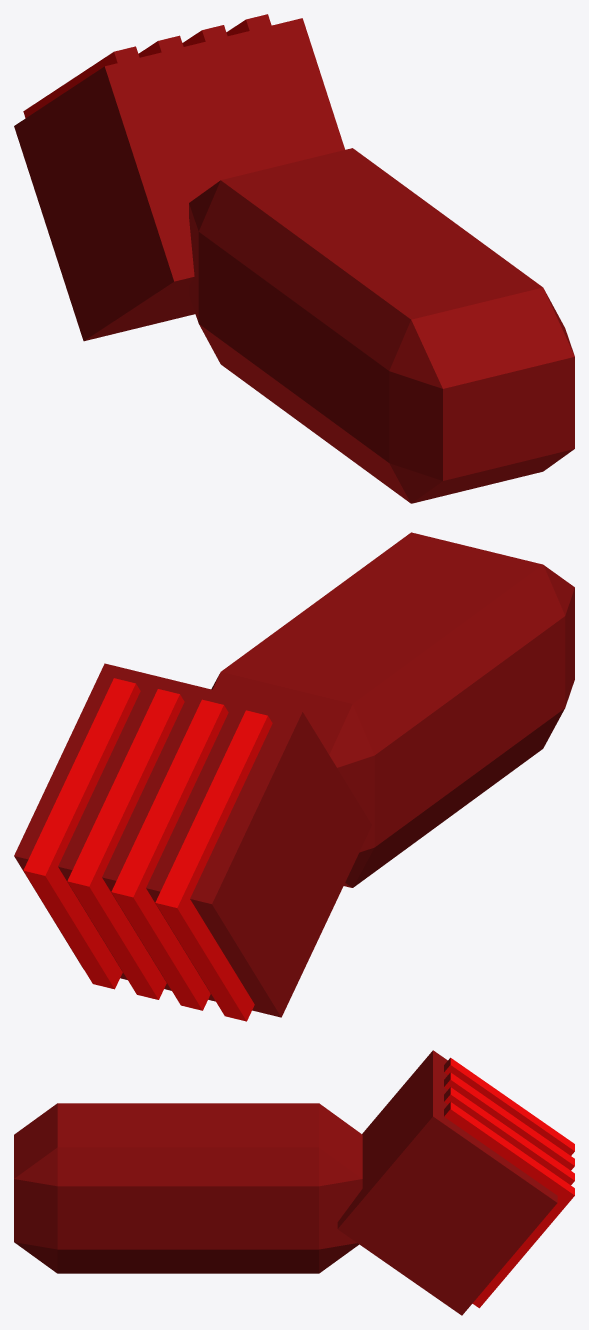
Rendered from RedArm (2).gltf.
3 views of the same model, one above another, from view 1: azimuth 30°, elevation 25°; view 2: azimuth 150°, elevation 25°; view 3: azimuth 270°, elevation 25° (orthographic). The views are drawn at different scales.
Visible parts, largest first — view 1: beveled_cuboid, cuboid (×2); view 2: cuboid (×5), beveled_cuboid; view 3: beveled_cuboid, cuboid (×5).
Part boxes in pixels (x1,y1,x2,y2): beveled_cuboid: (189, 148, 574, 503); cuboid (×2): (14, 18, 344, 341); cuboid (×5): (14, 663, 371, 1021); beveled_cuboid: (211, 532, 574, 887); beveled_cuboid: (14, 1103, 362, 1273); cuboid (×5): (337, 1050, 574, 1315).
Size of the model in its own units: 0.2812 by 0.3943 by 1.01.
Materials: 1 (1 with a texture image).
